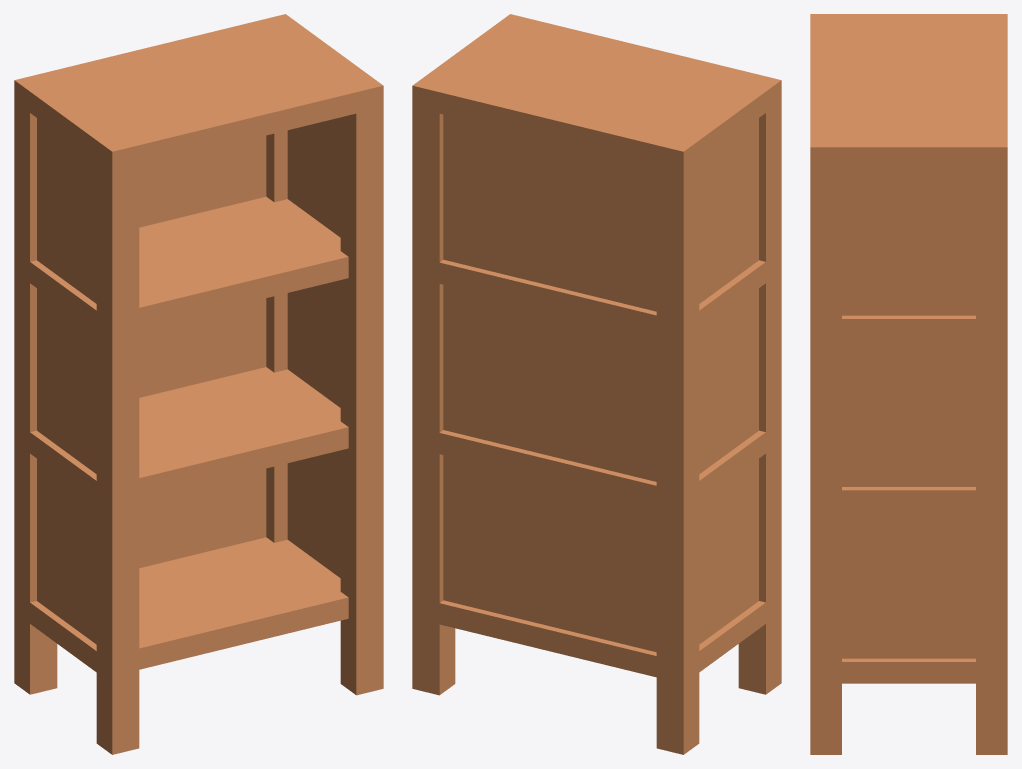
Rendered from Bookcase Closed.glb.
The picture shows the model from 3 angles, left to right: view 1: azimuth 30°, elevation 25°; view 2: azimuth 150°, elevation 25°; view 3: azimuth 270°, elevation 25°; orthographic projection.
Visible parts, largest first — view 1: bookcaseClosed(Clone); view 2: bookcaseClosed(Clone); view 3: bookcaseClosed(Clone).
Part boxes in pixels (x1,y1,x2,y2): bookcaseClosed(Clone): [14, 14, 383, 754]; bookcaseClosed(Clone): [412, 14, 781, 754]; bookcaseClosed(Clone): [810, 14, 1007, 754].
Bounding box in the file's own units: 0.4 × 0.85 × 0.25.
